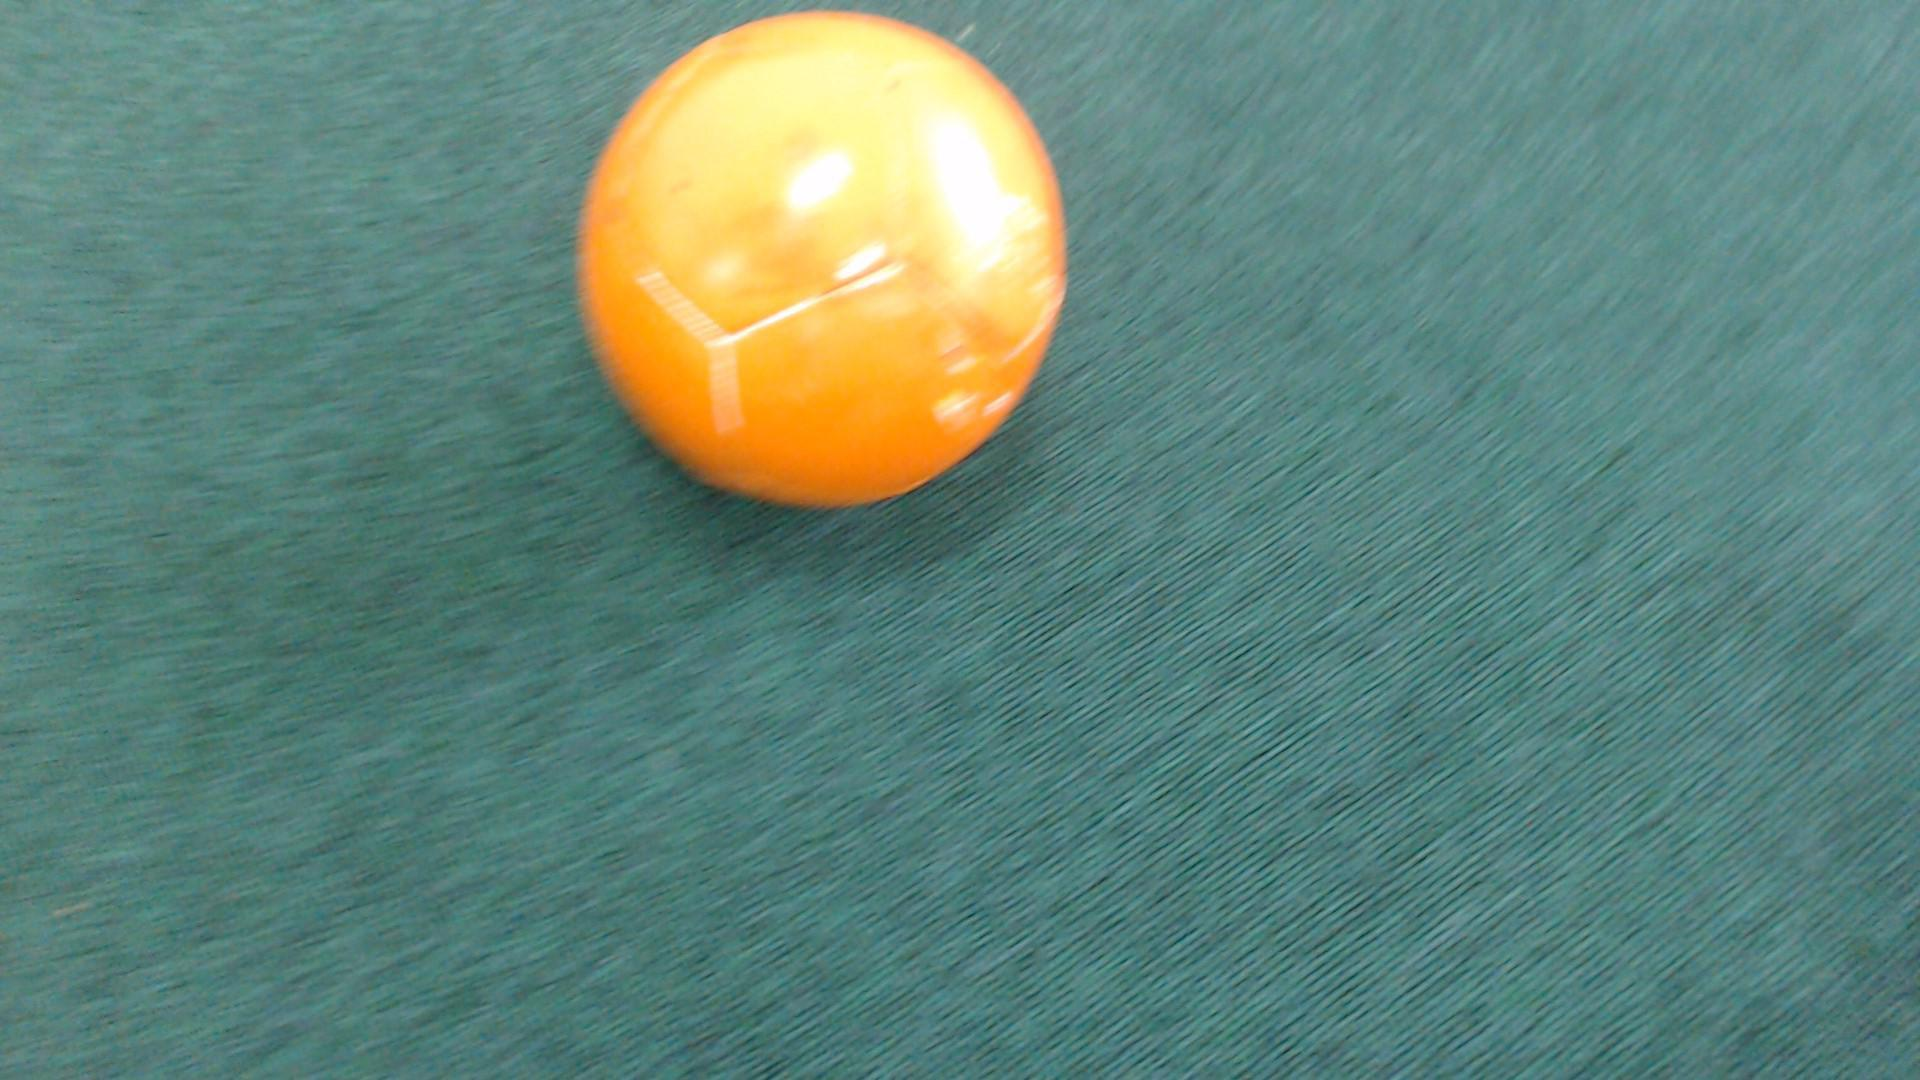bola: (537, 0, 1105, 549)
